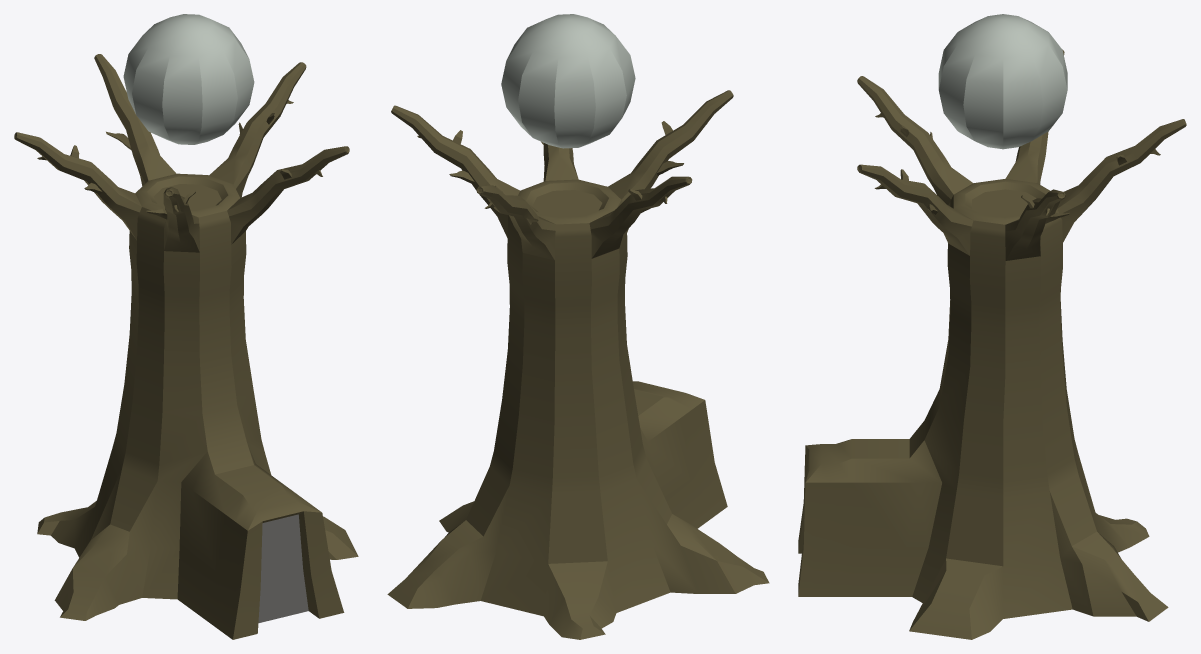
Rendered from Arbol central.fbx.
The picture shows the model from 3 angles, left to right: view 1: azimuth 30°, elevation 25°; view 2: azimuth 150°, elevation 25°; view 3: azimuth 270°, elevation 25°; orthographic projection. The views are drawn at different scales.
Parts seen in each view (by area): view 1: Arbol_central, Ojo_arbol_central, Puerta_arbol_central; view 2: Arbol_central, Ojo_arbol_central; view 3: Arbol_central, Ojo_arbol_central.
Part boxes in pixels (box(x1,y1,x2,y2)): Arbol_central: box(14, 54, 358, 639); Ojo_arbol_central: box(123, 14, 254, 144); Puerta_arbol_central: box(258, 514, 308, 623); Arbol_central: box(387, 90, 769, 639); Ojo_arbol_central: box(501, 14, 635, 148); Arbol_central: box(798, 49, 1186, 639); Ojo_arbol_central: box(938, 14, 1067, 149).
Size of the model in its own units: 14.94 by 24.79 by 15.9.
